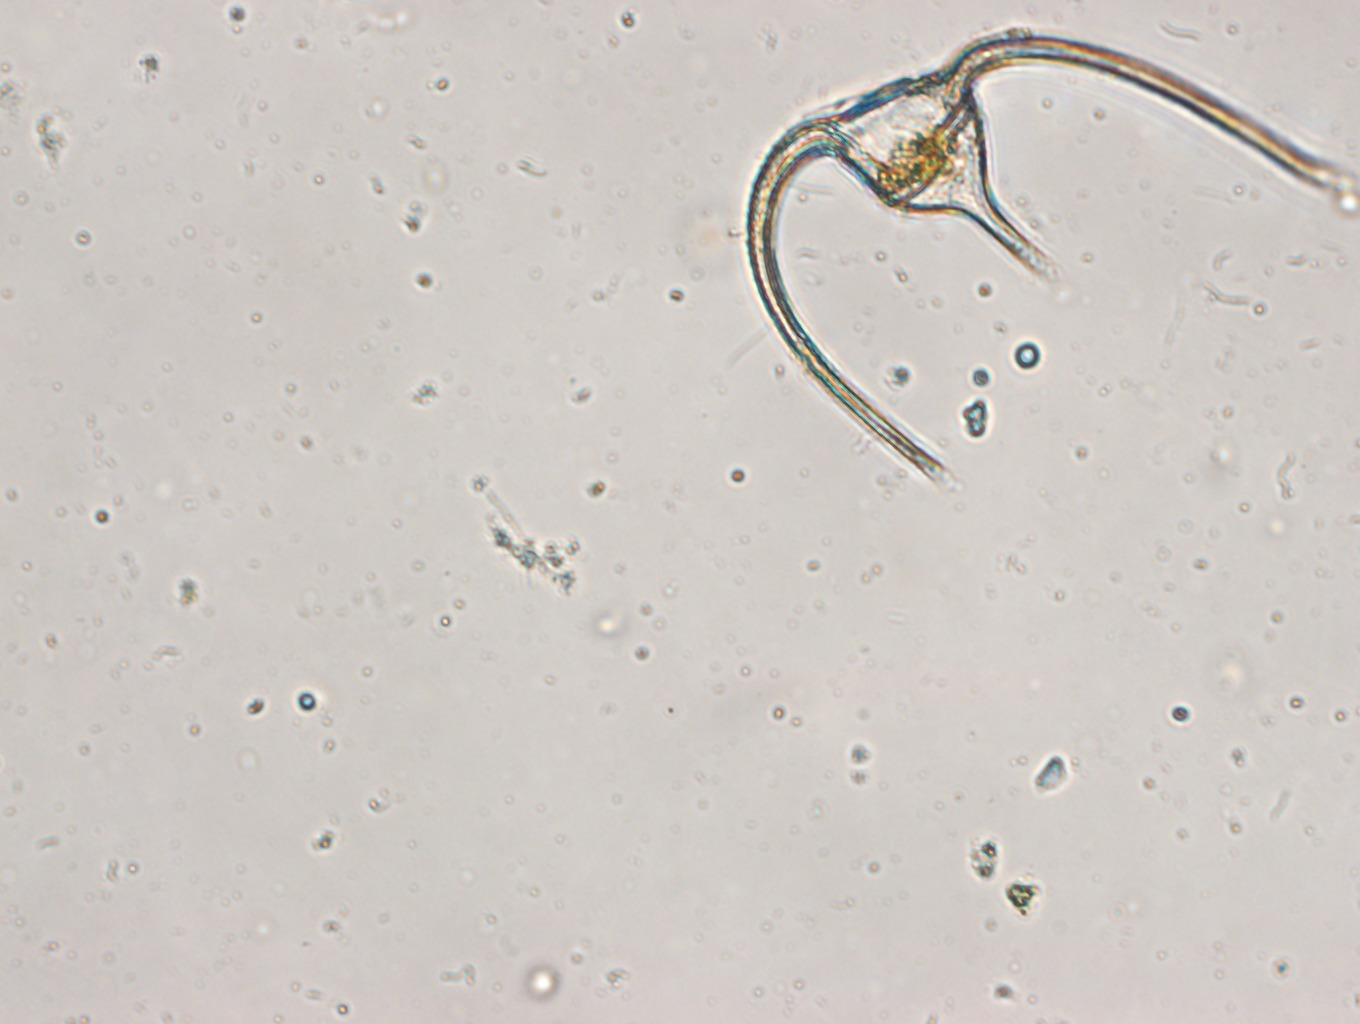ceratium trichoceros: (725, 25, 1351, 496)
